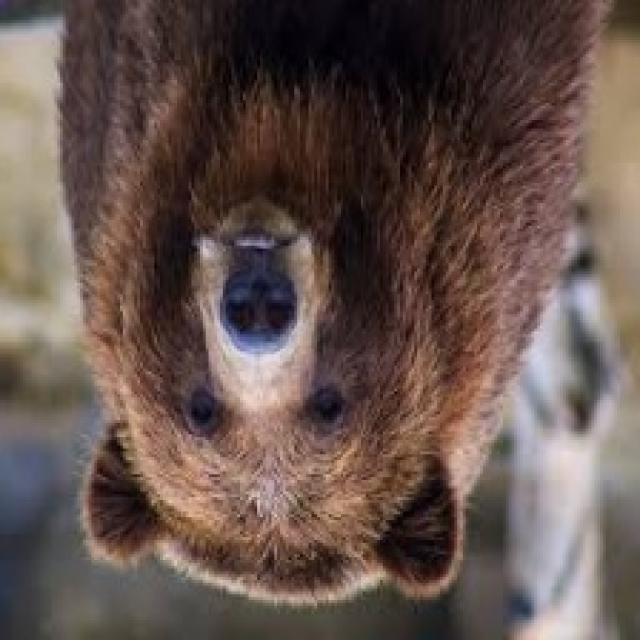bear: (59, 26, 572, 640)
